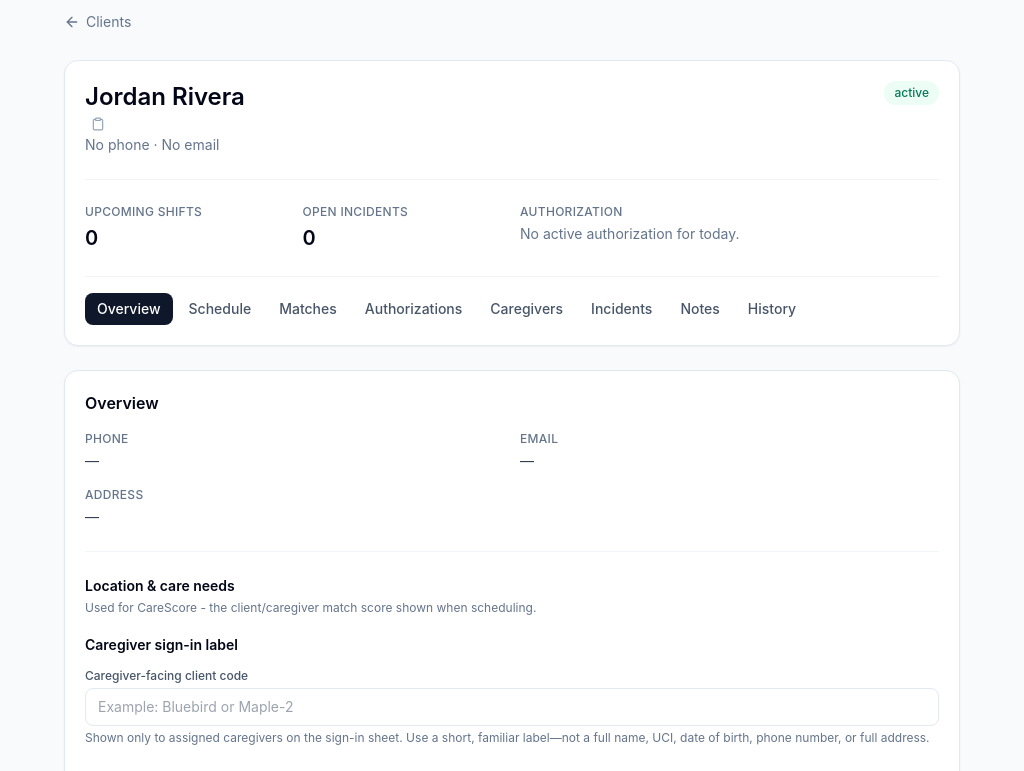
it: ClientDetailPage › shows ranked CareScore matches with a breakdown on the Matches tab
The image size is (1024, 771).
Expected: the heading "Jordan Rivera" is shown, [85,81,245,113]
Click the button "Matches": coordinates (308, 309) [267,293,349,325]
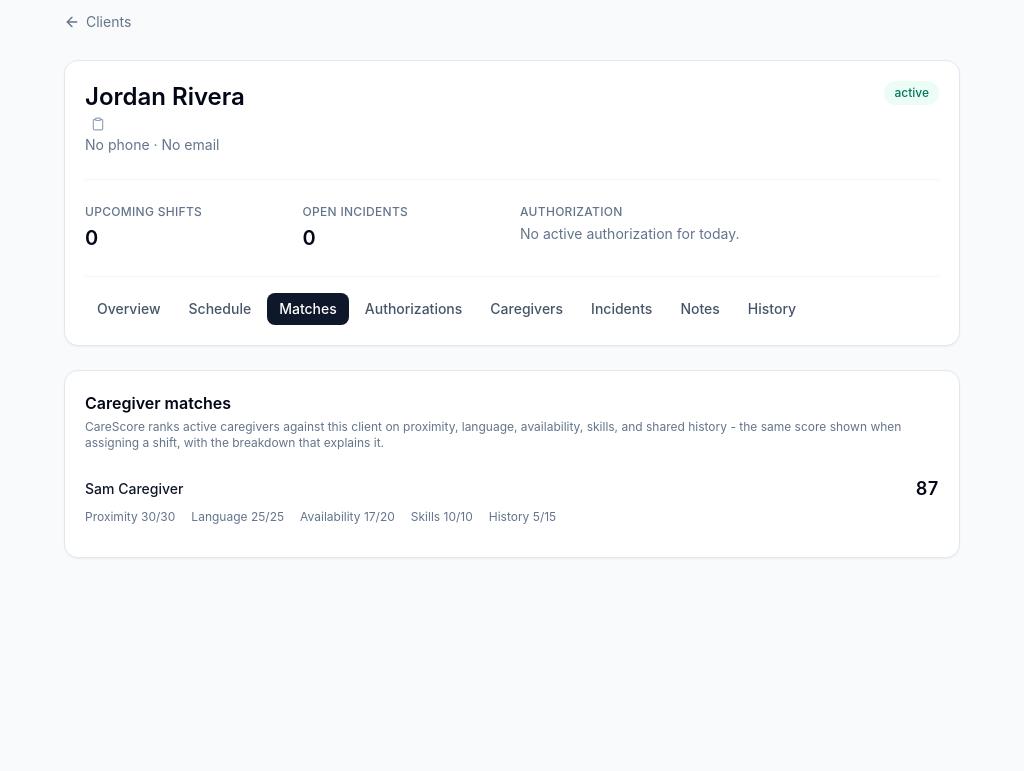
Now the link "Sam Caregiver" is shown, box [85,479,183,499]
Now the text "87" is shown, box [916,475,939,503]
Now the text "Proximity 30/30" is shown, box [85,509,175,525]
